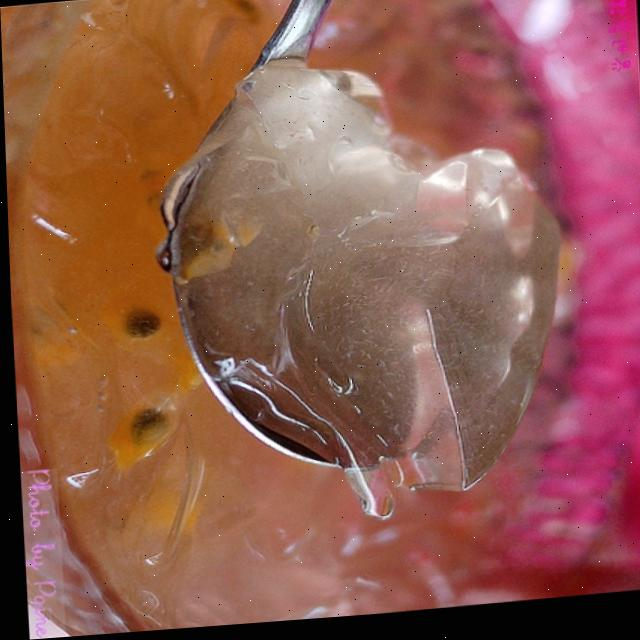蛋糕甜品: (13, 0, 612, 631)
